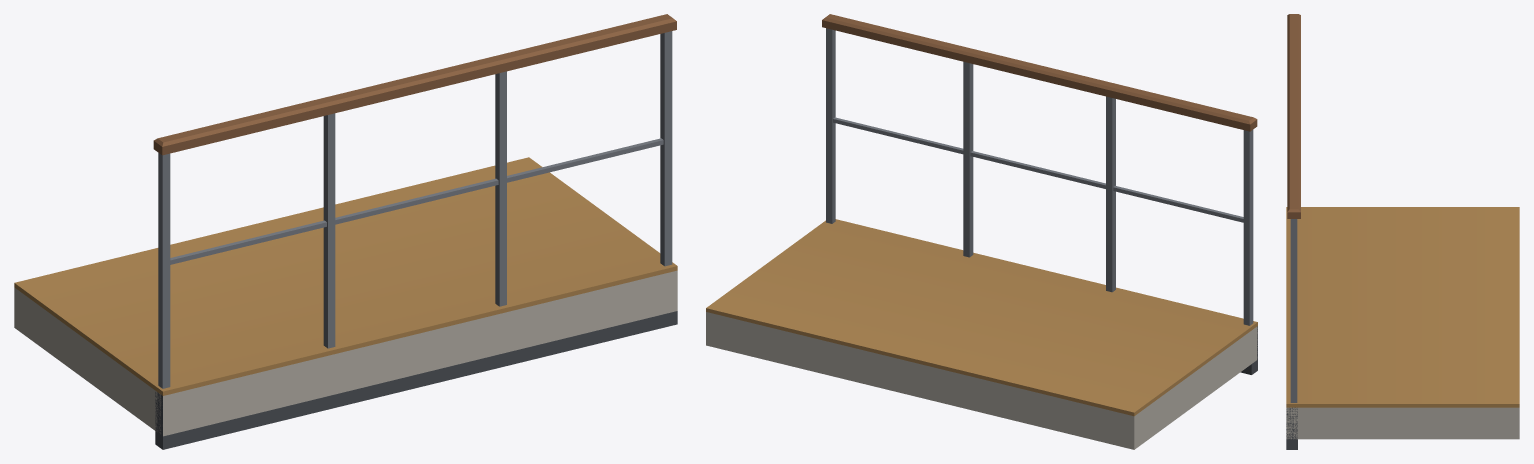
File: stairs_landing_01.glb
3 renders of one model, left to right at view 1: azimuth 30°, elevation 25°; view 2: azimuth 150°, elevation 25°; view 3: azimuth 270°, elevation 25°, orthographic. The views are drawn at different scales.
Visible parts, largest first — view 1: stairs_landing_01_mesh; view 2: stairs_landing_01_mesh; view 3: stairs_landing_01_mesh.
Boxes of the visible parts, bbox=[...] form: stairs_landing_01_mesh: bbox=[14, 14, 677, 449]; stairs_landing_01_mesh: bbox=[706, 14, 1257, 449]; stairs_landing_01_mesh: bbox=[1286, 14, 1519, 449].
Bounding box in the file's own units: 2.4 × 1.36 × 1.2.
Materials: 1 (1 with a texture image).
